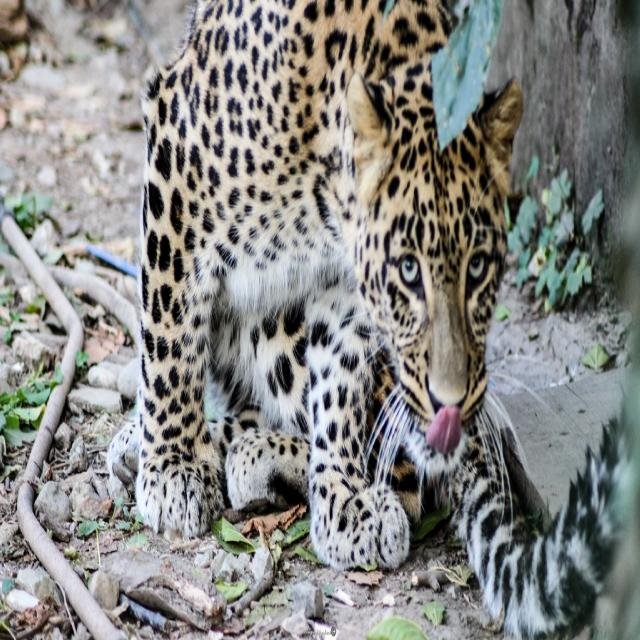Leopard: (142, 0, 516, 528)
